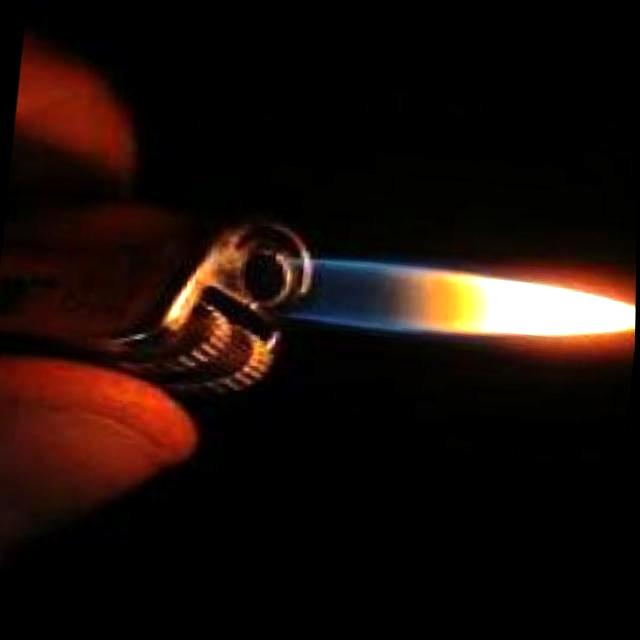fire: (283, 252, 637, 351)
